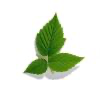Raspberry leaf: (35, 11, 67, 58), (47, 53, 85, 72), (22, 57, 49, 75)
